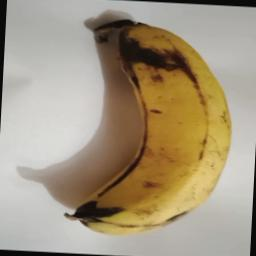Banana Unripe: (64, 14, 241, 240)
